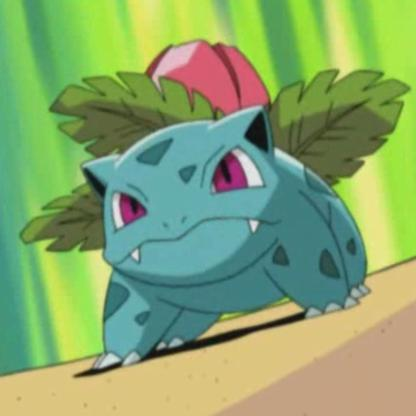Ivysaur: (24, 27, 400, 358)
